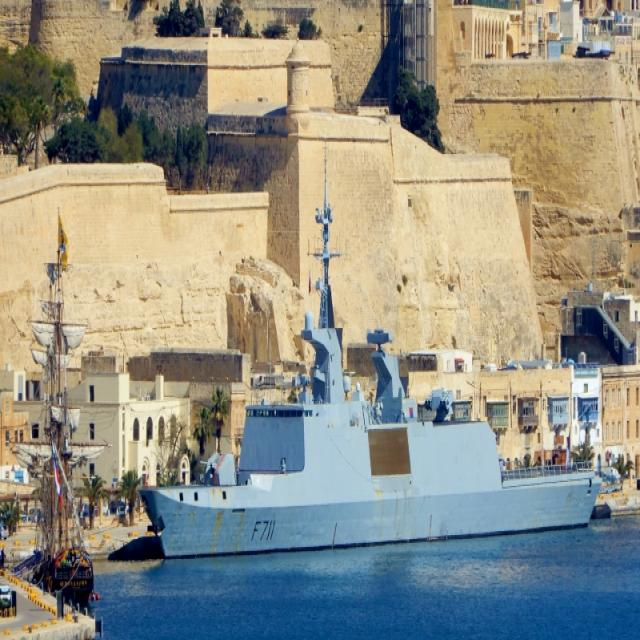Fragata: (136, 139, 603, 564)
